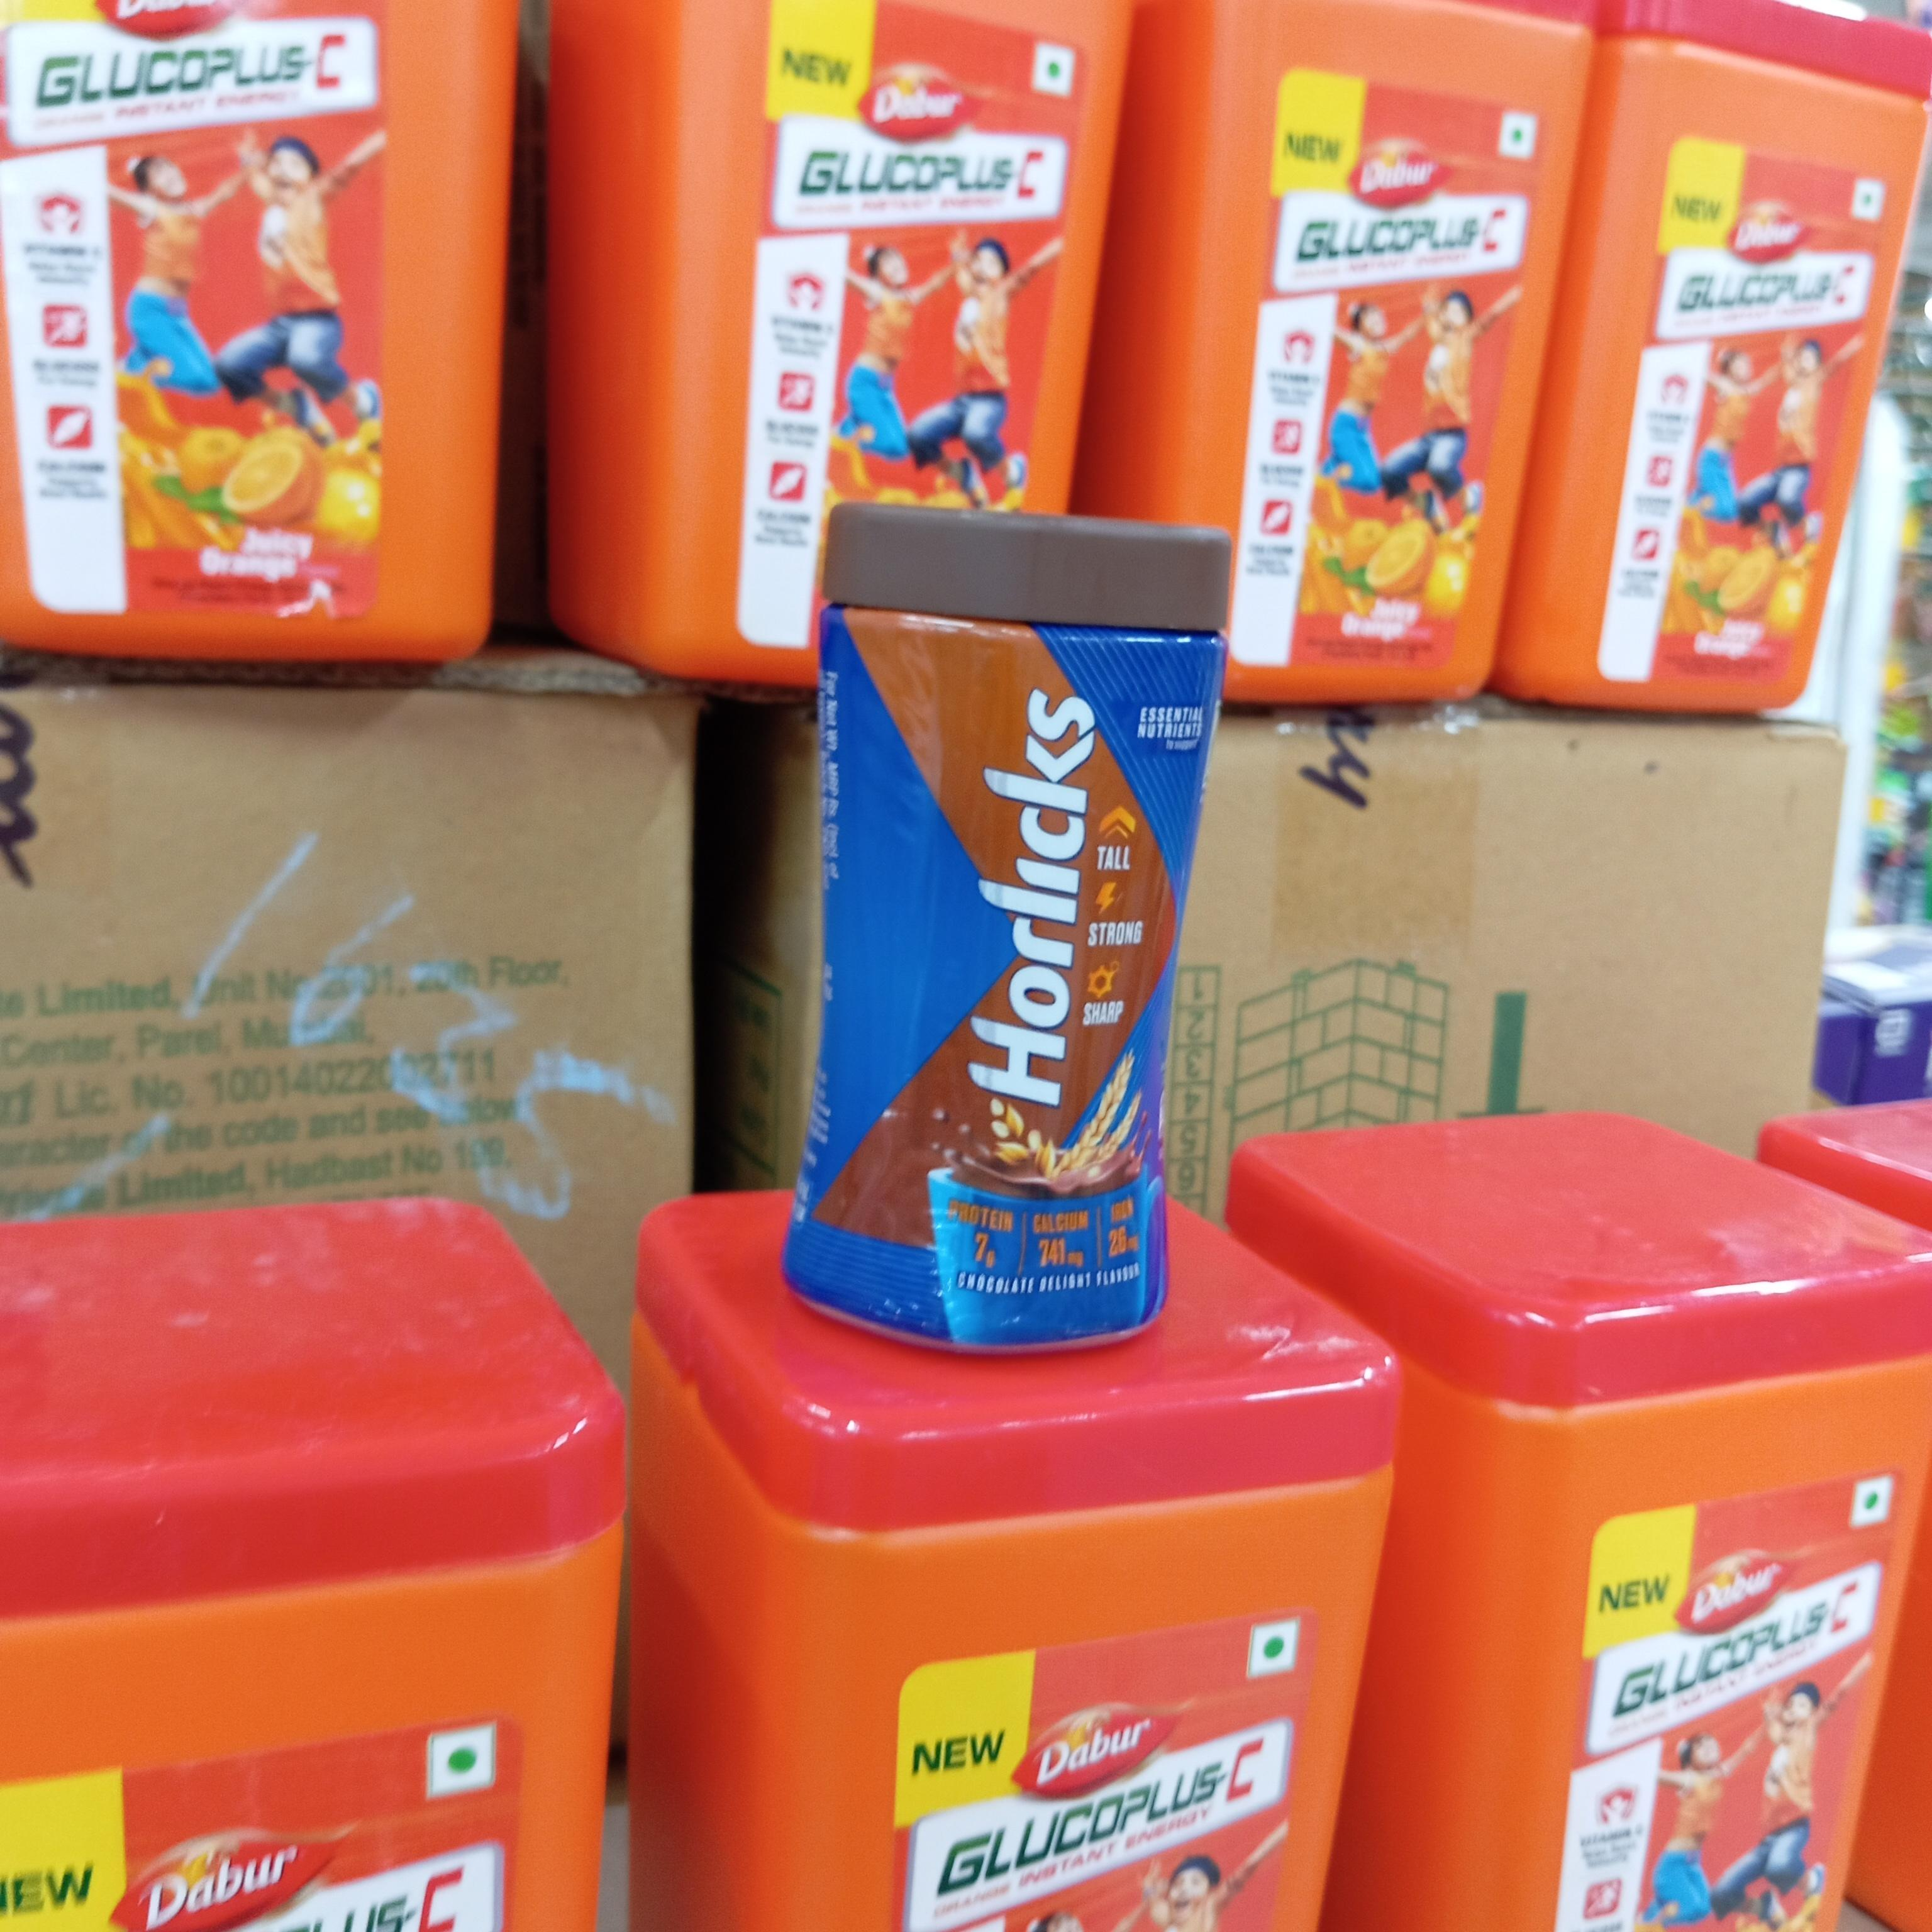HORLICK_CHOCOLATE_200_G_JAR: (810, 506, 1214, 1345)
